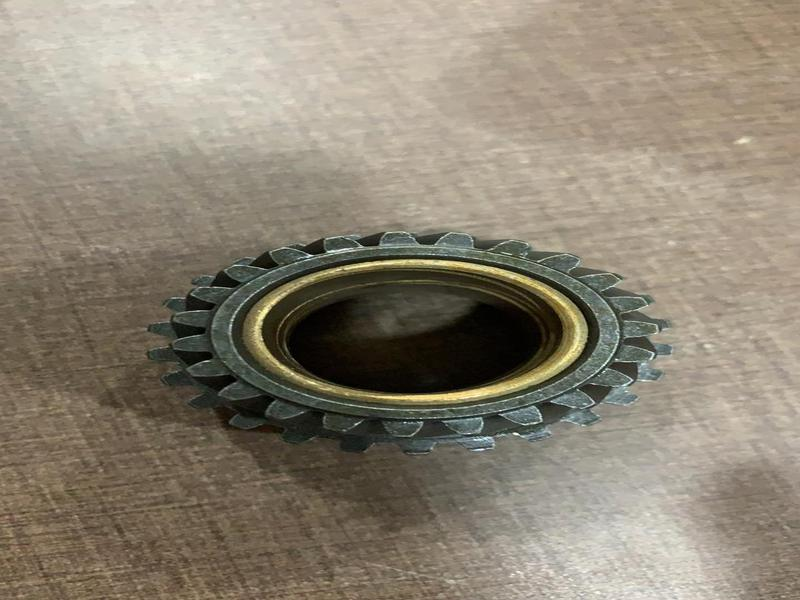engine gear alfa: (143, 152, 703, 550)
